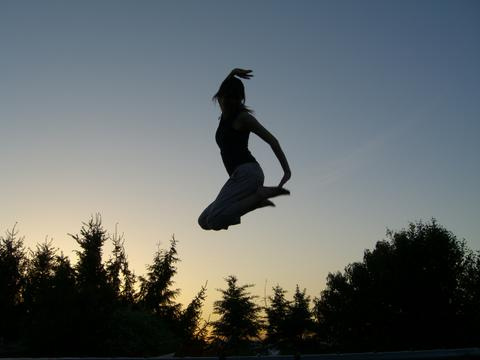person: (198, 69, 293, 232)
